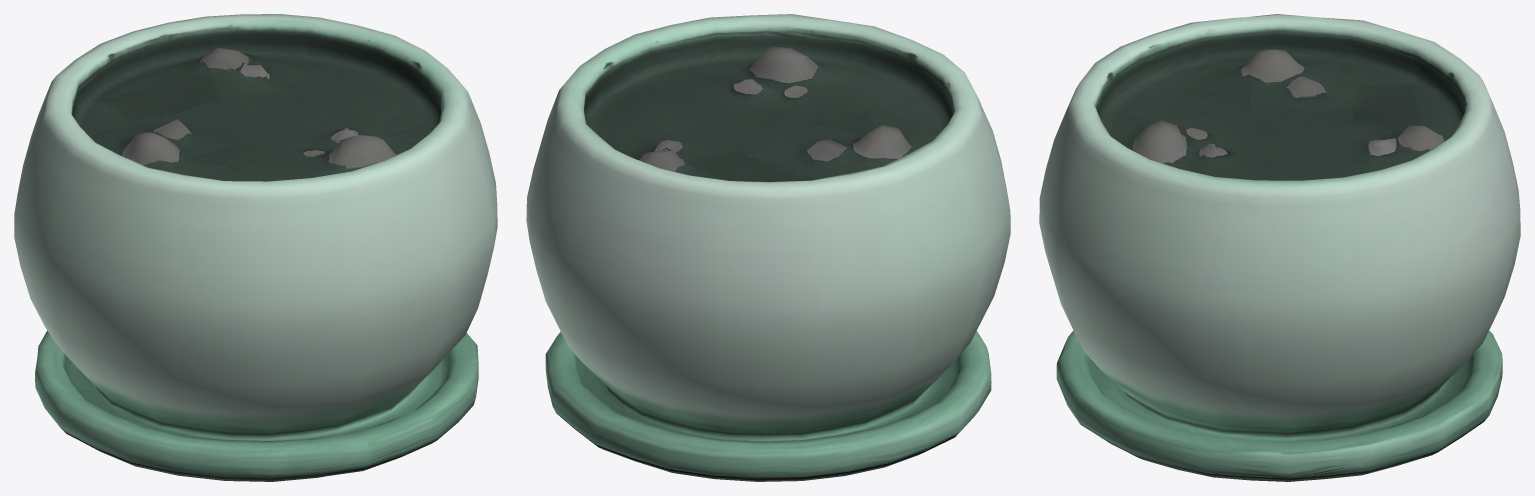
File: pot_c1.glb
3 renders of one model, left to right at view 1: azimuth 30°, elevation 25°; view 2: azimuth 150°, elevation 25°; view 3: azimuth 270°, elevation 25°, orthographic.
Parts seen in each view (by area): view 1: tripo_node_818af746-1bd0-4d1a-bbcb-7c1539f1ecae; view 2: tripo_node_818af746-1bd0-4d1a-bbcb-7c1539f1ecae; view 3: tripo_node_818af746-1bd0-4d1a-bbcb-7c1539f1ecae.
Part boxes in pixels (x1=…): tripo_node_818af746-1bd0-4d1a-bbcb-7c1539f1ecae: x1=14, y1=14, x2=497, y2=481; tripo_node_818af746-1bd0-4d1a-bbcb-7c1539f1ecae: x1=526, y1=14, x2=1010, y2=481; tripo_node_818af746-1bd0-4d1a-bbcb-7c1539f1ecae: x1=1039, y1=14, x2=1520, y2=481.
Size of the model in its own units: 0.9813 by 0.6598 by 0.978.
Materials: 1 (1 with a texture image).
